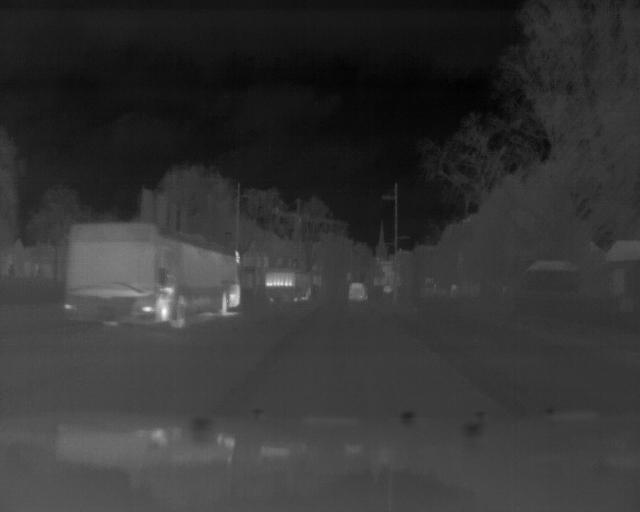car: (343, 276, 370, 303)
